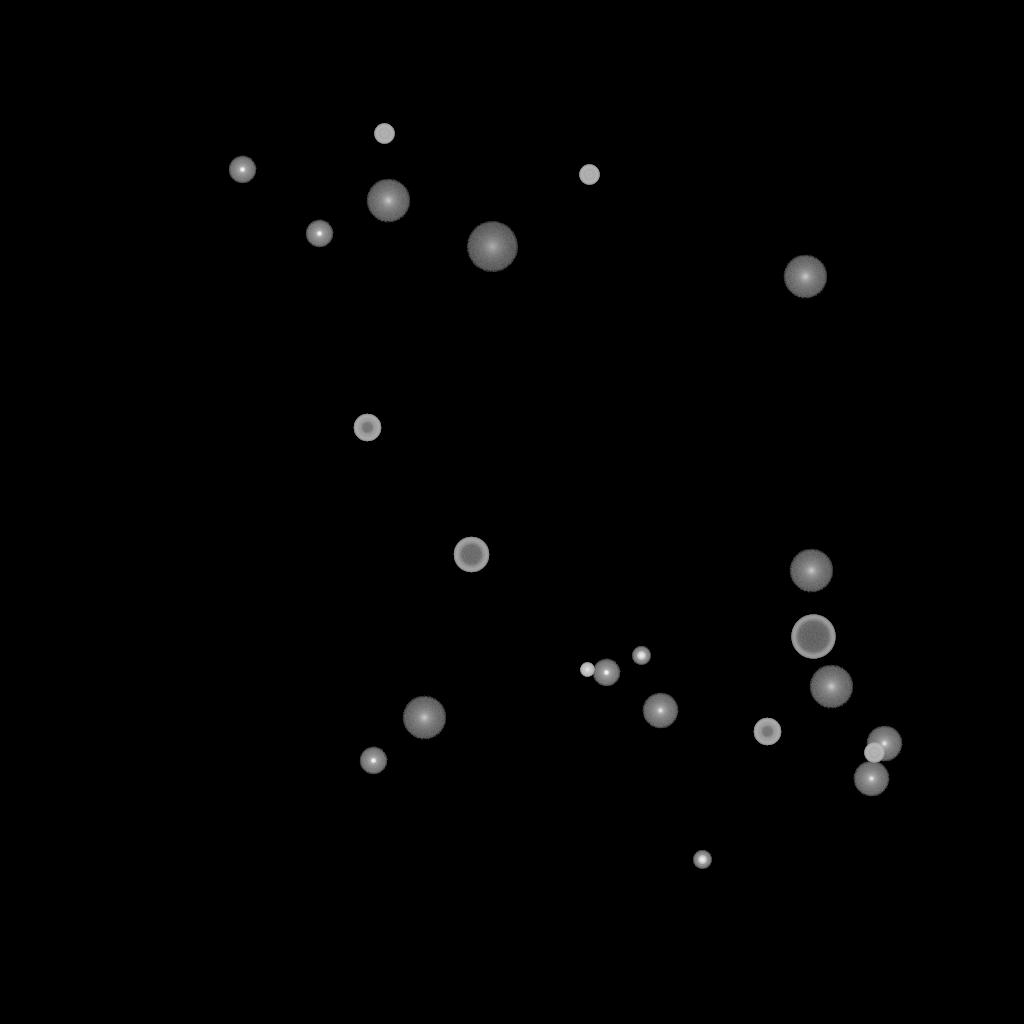depth:-10: (359, 747, 387, 775), (592, 659, 620, 687), (228, 156, 256, 184), (305, 220, 333, 248)
depth:-20: (632, 647, 650, 665), (693, 851, 711, 869)
depth:-30: (580, 663, 594, 677)
depth:-40: (374, 124, 394, 144), (864, 743, 884, 763), (579, 165, 599, 185)
depth:-50: (353, 414, 381, 442), (753, 718, 781, 746)
depth:-60: (453, 537, 489, 573)
depth:-70: (791, 615, 835, 659)
depth:0: (853, 761, 889, 797), (642, 693, 678, 729), (866, 726, 902, 762)
depth:10: (789, 549, 833, 593), (366, 179, 410, 223), (402, 696, 446, 740), (809, 665, 853, 709), (783, 255, 827, 299)
depth:20: (466, 222, 518, 272)
